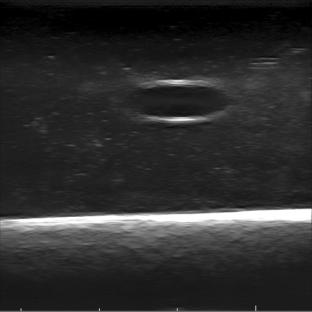vessel: (128, 79, 231, 123)
